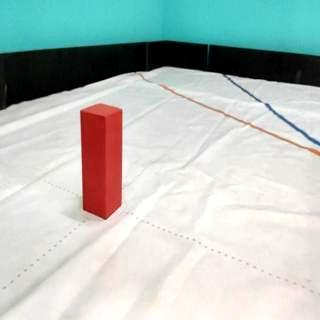redbox: (81, 103, 123, 220)
